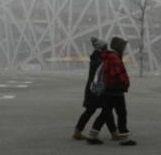person: (88, 36, 138, 146), (72, 33, 121, 143)
